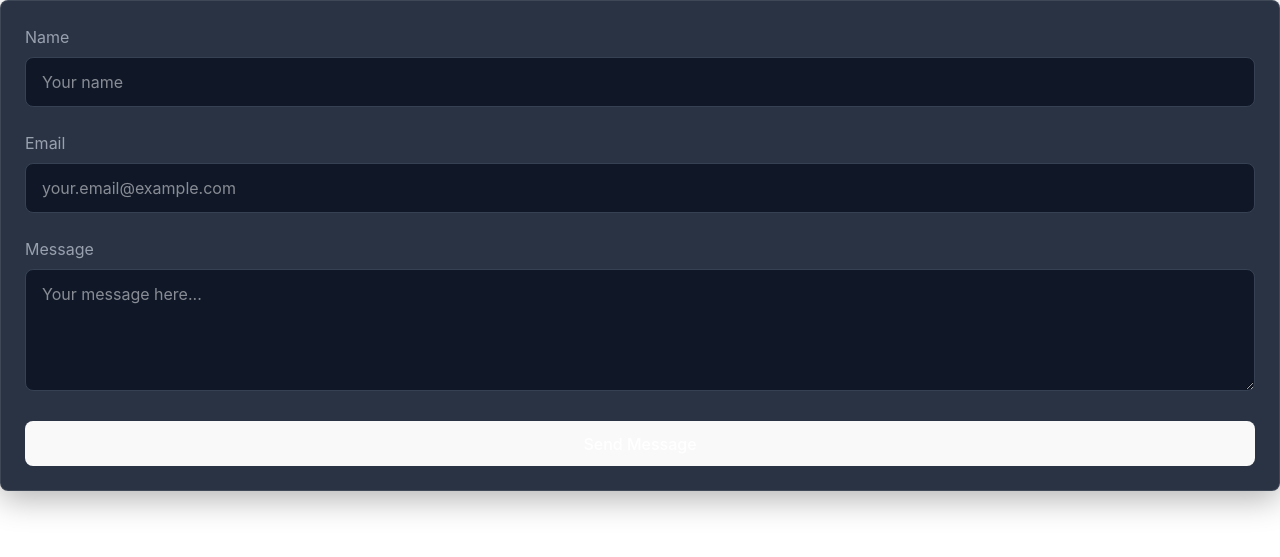
ContactForm › Field Validation › should clear error when valid input is provided
Type "invalid" into the field with placeholder "your.email@example.com" at (640, 188), box [25,163,1255,213]
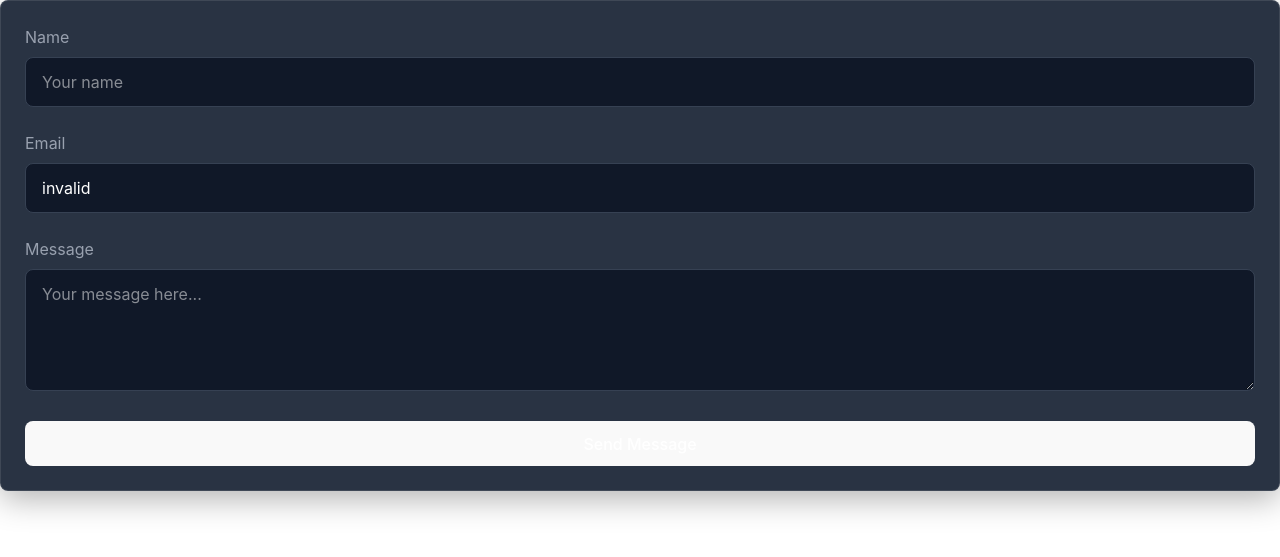
Leave the field with placeholder "your.email@example.com", box [25,163,1255,213]
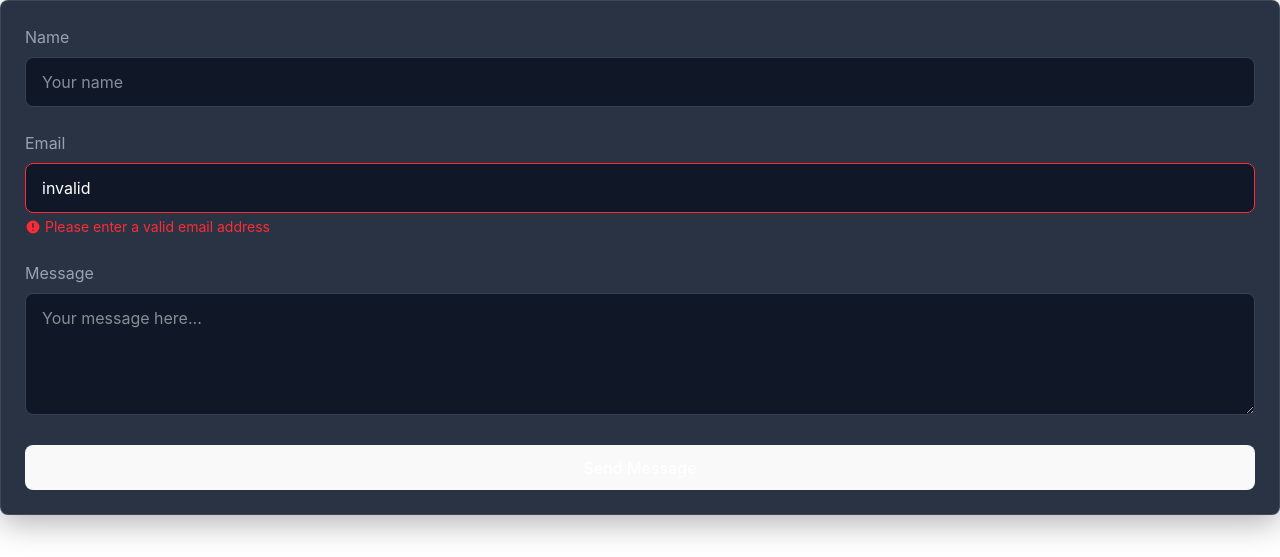
Now the text "Please enter a valid email address" is shown, box [25,218,270,235]
Replace the text in the field with placeholder "your.email@example.com" with "valid@example.com" at (640, 188), box [25,163,1255,213]
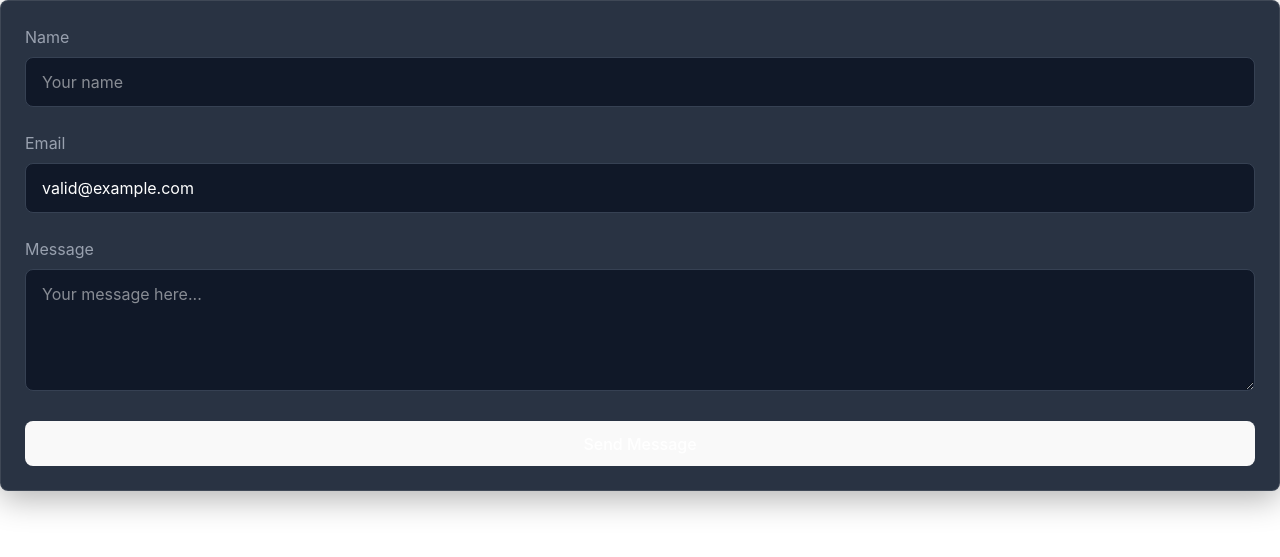
Now the text "Please enter a valid email address" is gone
